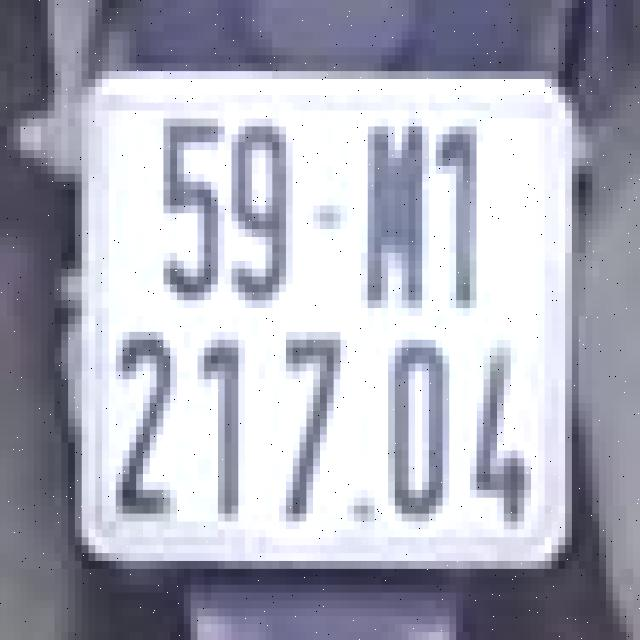0: (381, 336, 456, 533)
1: (432, 115, 494, 312), (197, 332, 252, 529)
2: (102, 316, 184, 522)
4: (466, 340, 542, 537)
5: (153, 115, 228, 304)
7: (272, 324, 348, 537)
9: (228, 115, 296, 312)
M: (354, 107, 436, 320)
